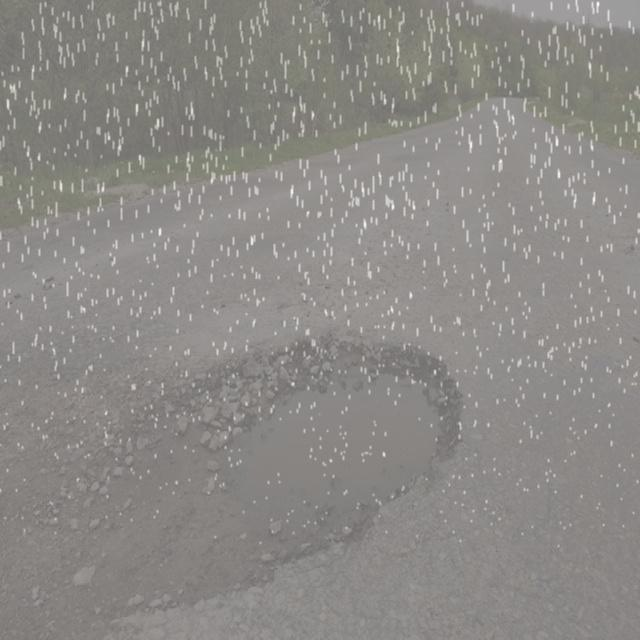Pothole: (14, 312, 475, 614)
